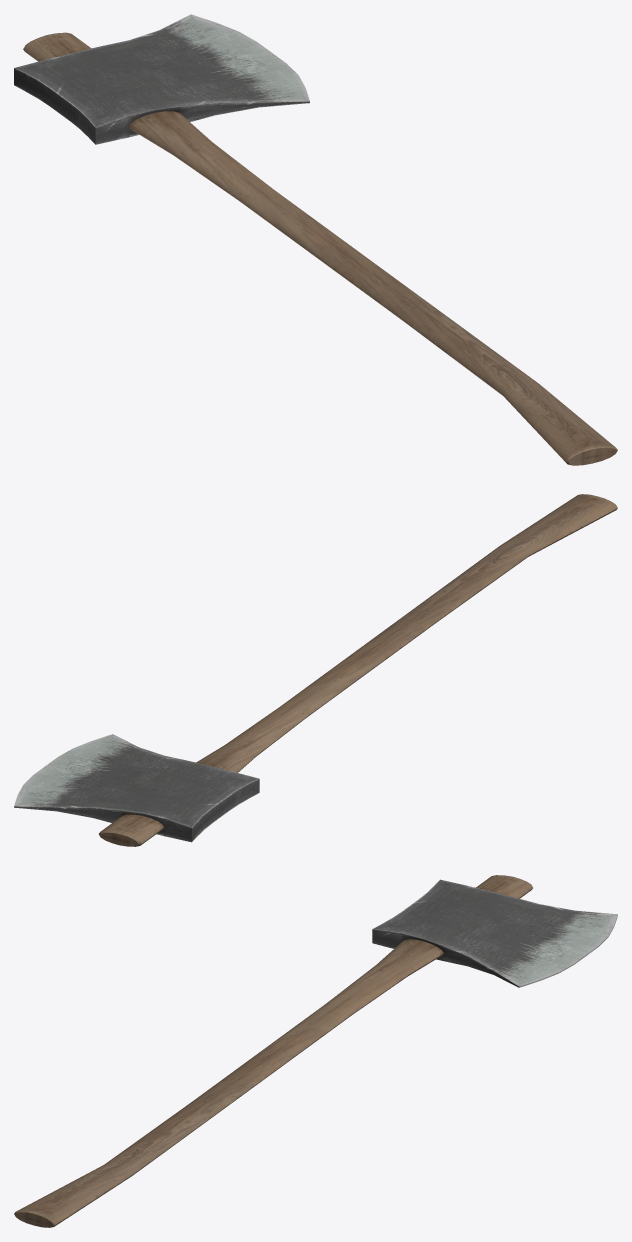
The model's file is axe.glb.
The picture shows the model from 3 angles, top to bottom: view 1: azimuth 30°, elevation 25°; view 2: azimuth 150°, elevation 25°; view 3: azimuth 330°, elevation 25°; orthographic projection. The views are drawn at different scales.
Parts seen in each view (by area): view 1: Plane; view 2: Plane; view 3: Plane.
Part boxes in pixels (x1,y1,x2,y2): Plane: [14, 14, 617, 465]; Plane: [14, 494, 617, 846]; Plane: [14, 875, 617, 1227].
Bounding box in the file's own units: 3.51 × 0.3484 × 15.76.
1 material, 1 textured.
